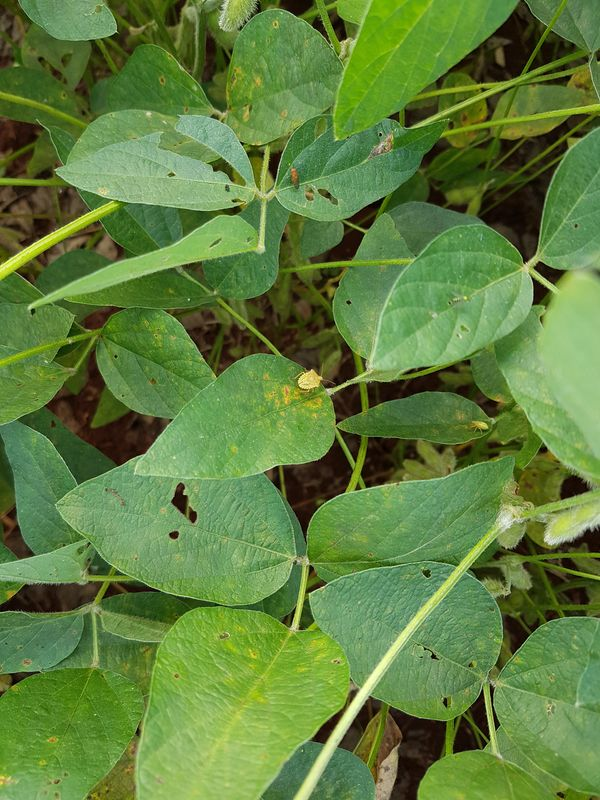Euschistus_heros_ninfa: (288, 363, 331, 398)
